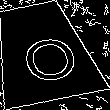O_N: (9, 22, 76, 83)
